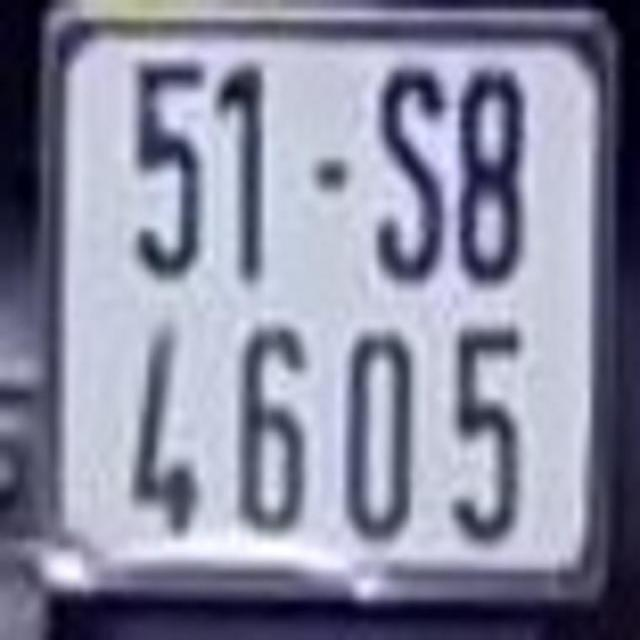0: (337, 322, 418, 545)
1: (211, 48, 279, 295)
4: (127, 325, 197, 546)
5: (129, 54, 206, 286), (450, 319, 524, 548)
6: (232, 322, 309, 541)
8: (450, 61, 524, 288)
S: (365, 58, 448, 287)
